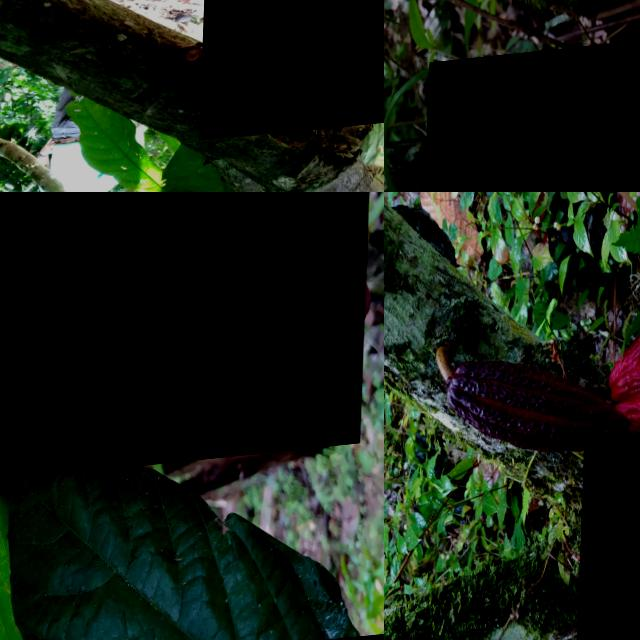Fitoftora: (0, 192, 371, 489), (203, 0, 384, 146)
Monilia: (422, 30, 640, 192)
Sana: (447, 349, 628, 466)
